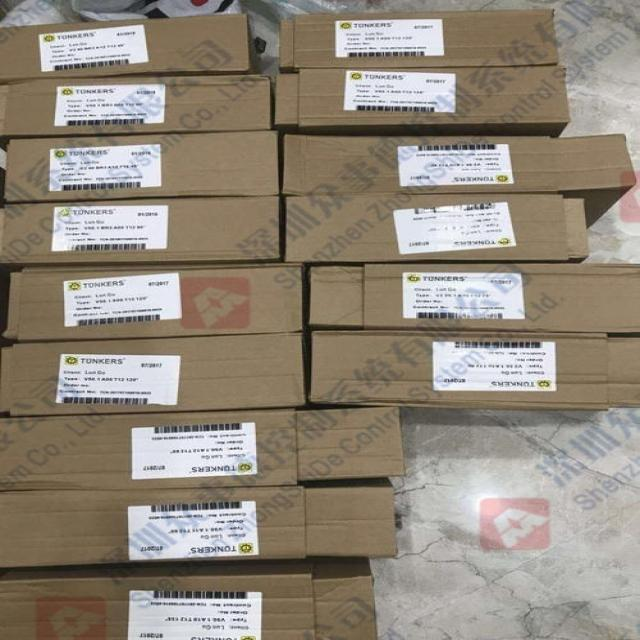box: (278, 134, 636, 230), (301, 332, 639, 412), (0, 558, 315, 639), (0, 333, 305, 416), (0, 485, 307, 567), (2, 263, 303, 342), (302, 263, 639, 333), (279, 193, 589, 264), (273, 66, 570, 140), (4, 129, 279, 202), (0, 196, 281, 267), (0, 14, 260, 83), (281, 9, 558, 73), (0, 75, 276, 133), (297, 477, 398, 559), (295, 406, 405, 480), (307, 557, 378, 639)
